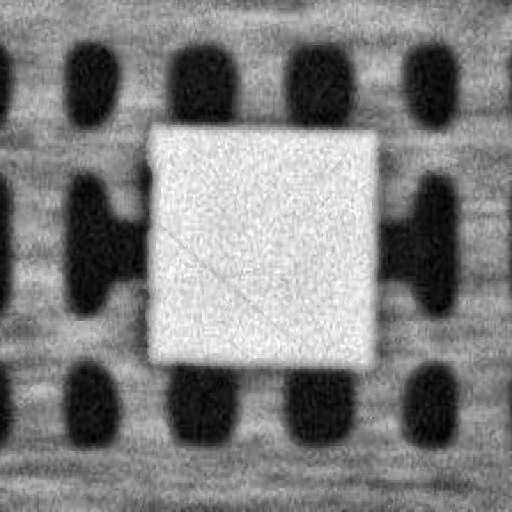DIE_CRACK: (228, 145, 440, 227)
